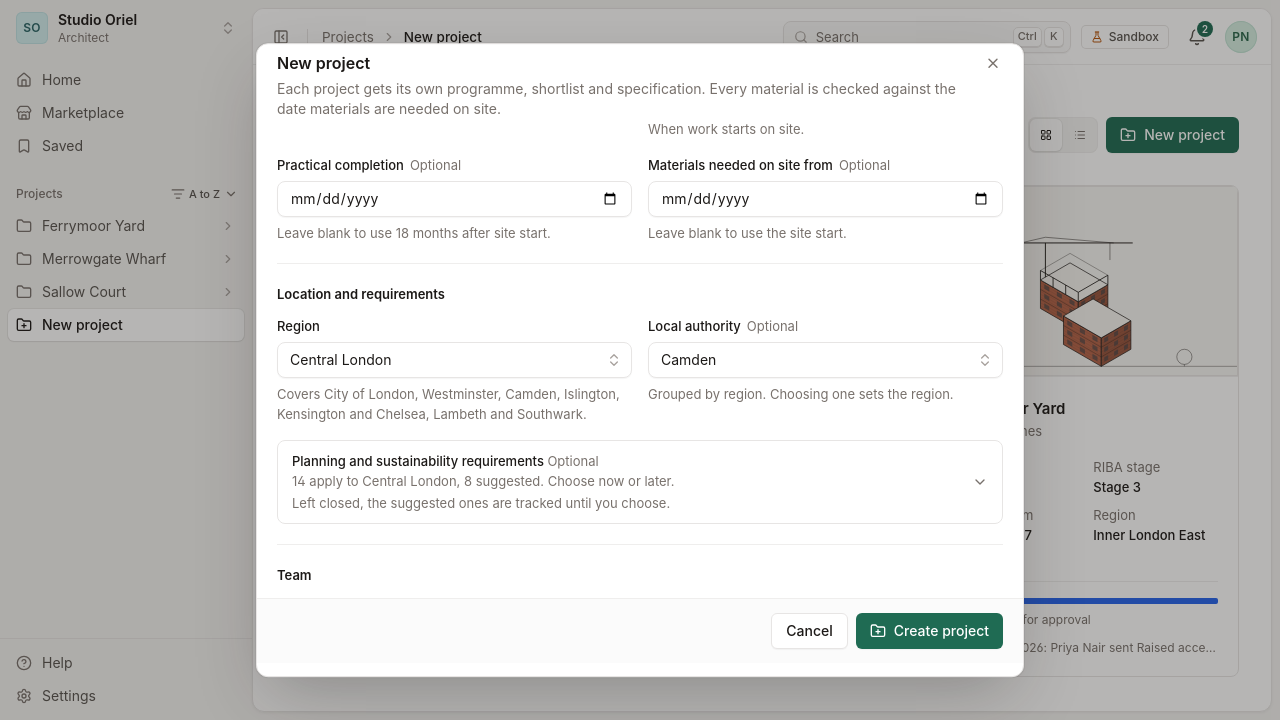
Test case: the location fields of the new project dialog › leaves the suggestions tracked when the panel stays closed, and the overview card says so
(page scrolled)
Select "Camden" in the 2nd dropdown at (826, 360), box [648,342,1003,378]
(page scrolled)
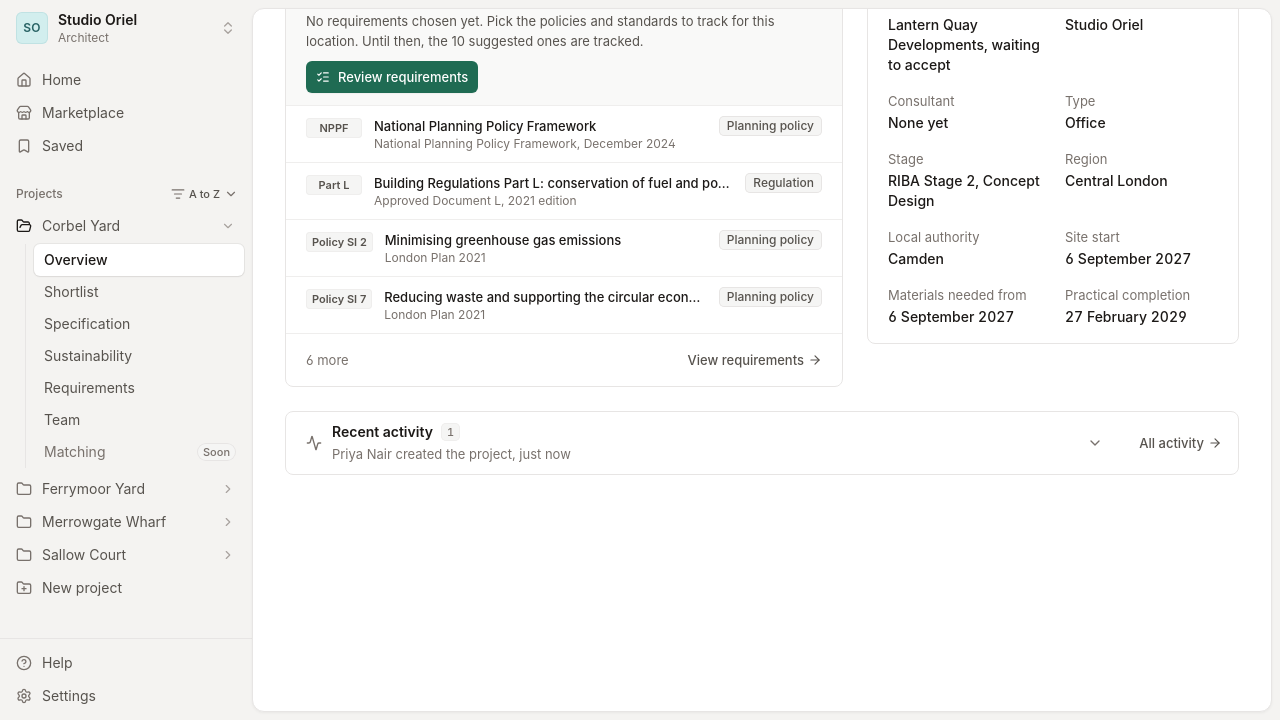
Result: the button "Review requirements" is shown at [306,61,478,93]
Result: the link "View requirements" is shown at [688,352,822,368]
